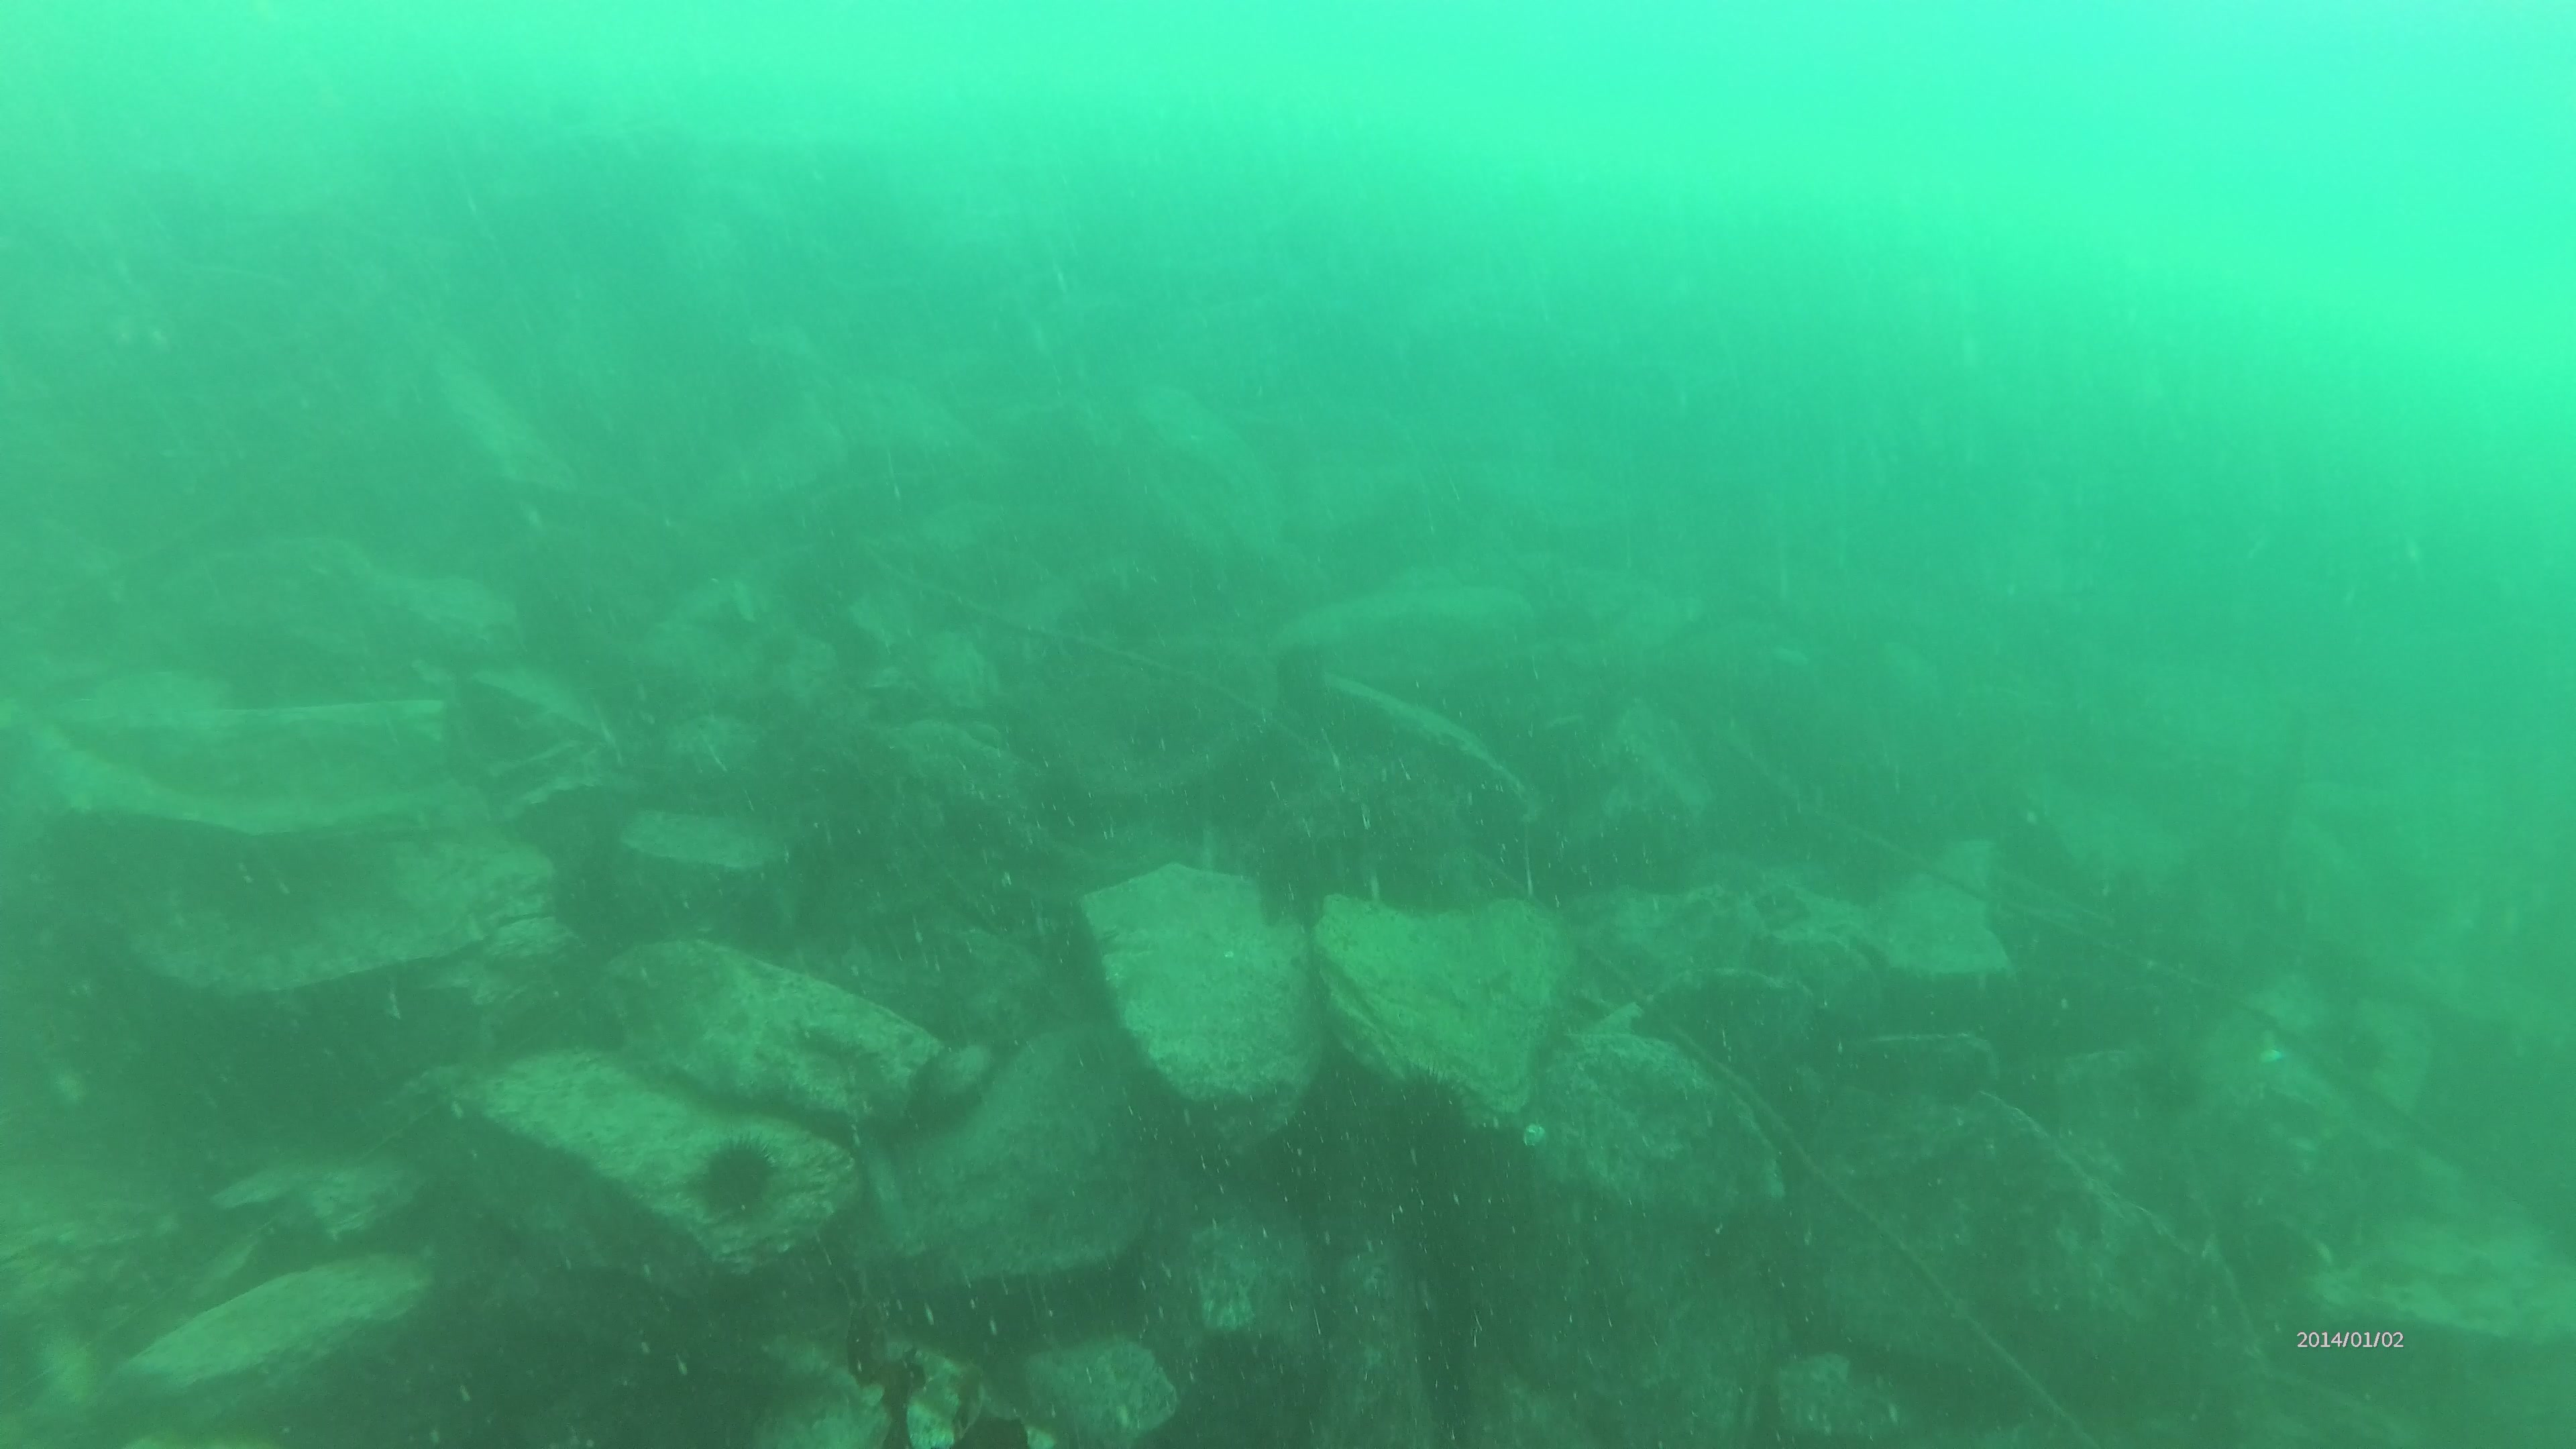echinus: (690, 1136, 786, 1226)
